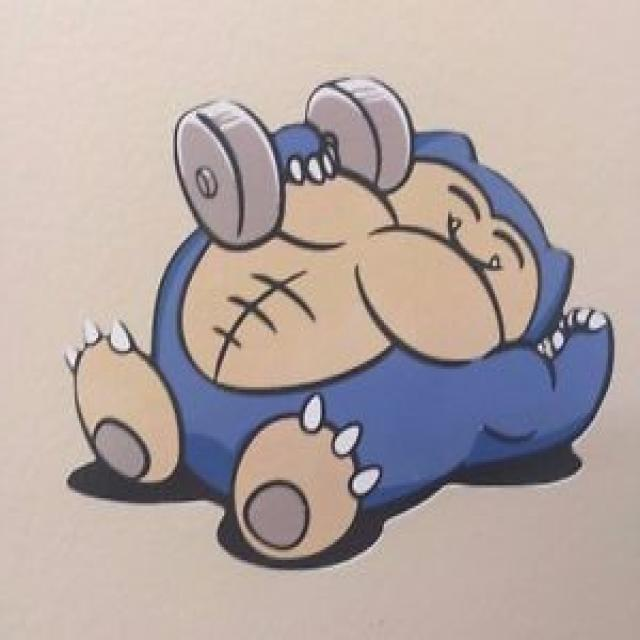Snorlax: (126, 124, 587, 555)
